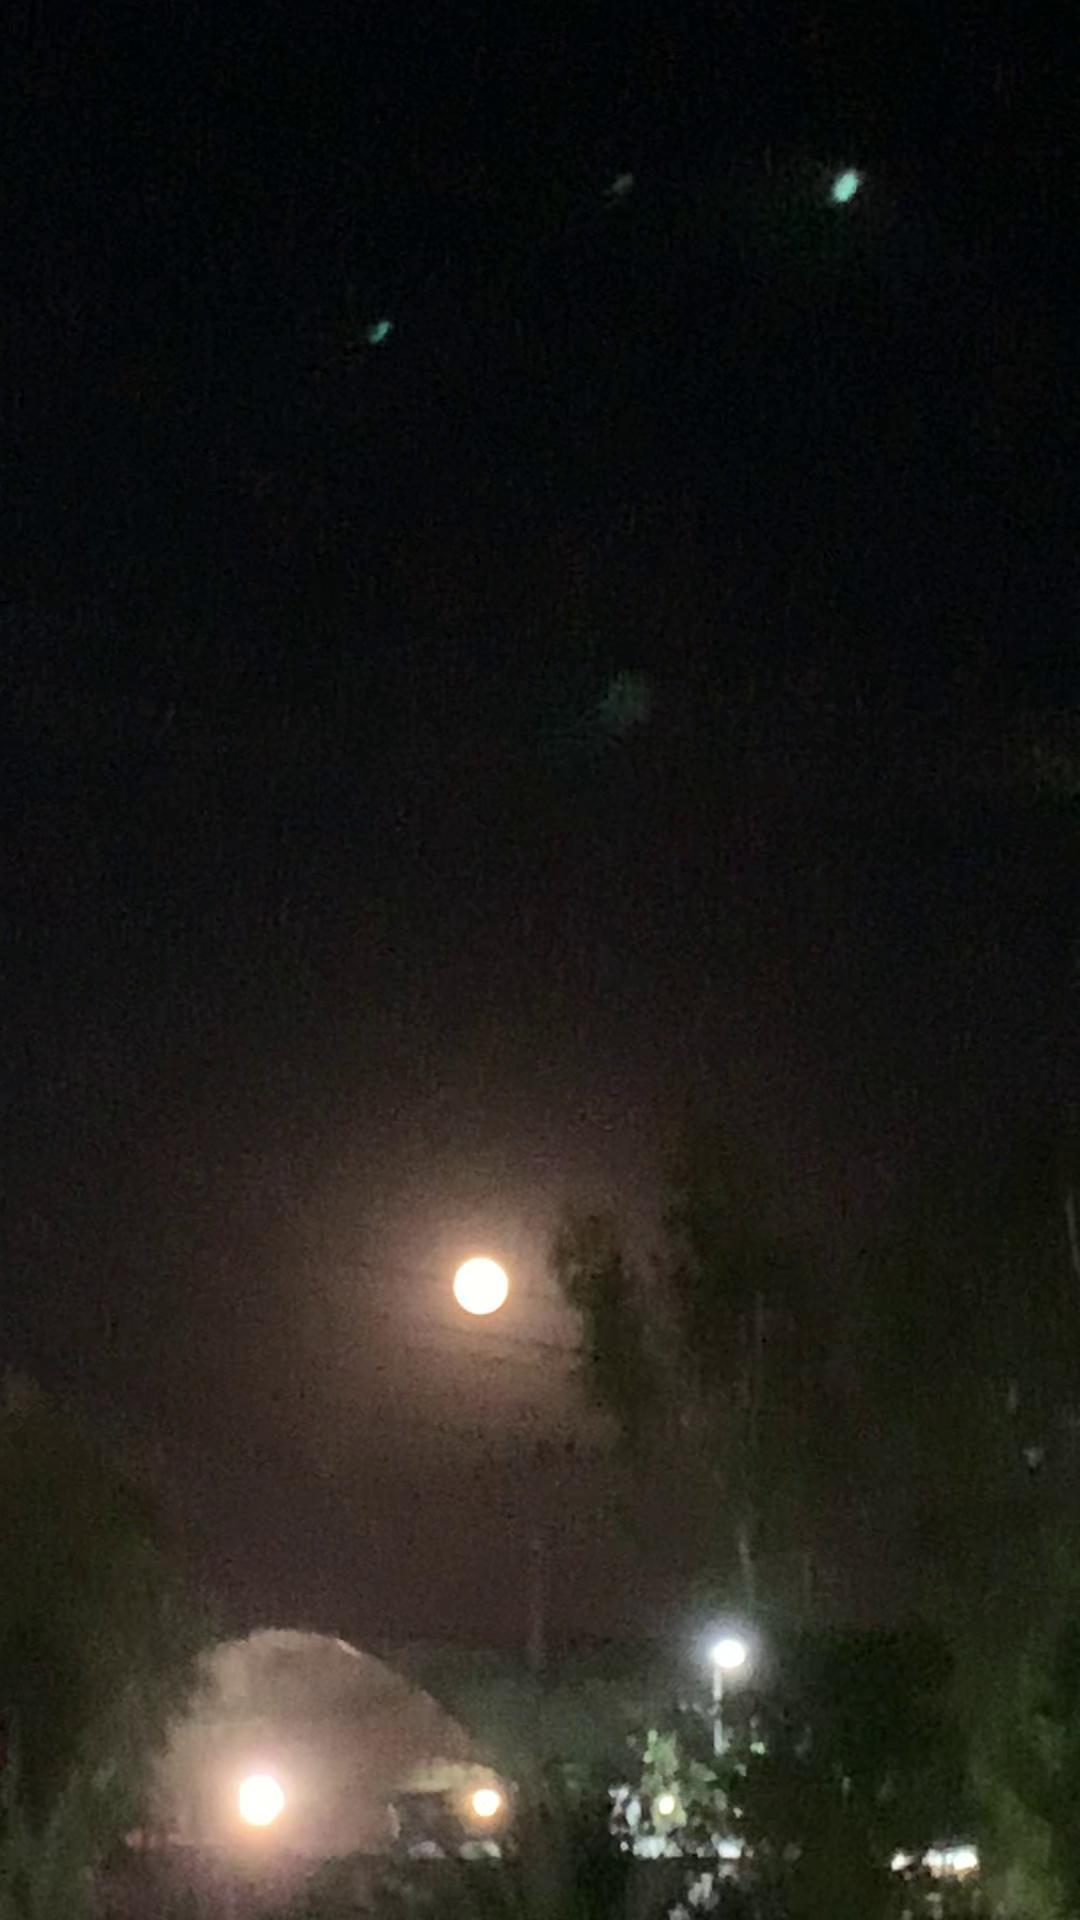moon: (435, 1240, 524, 1316)
